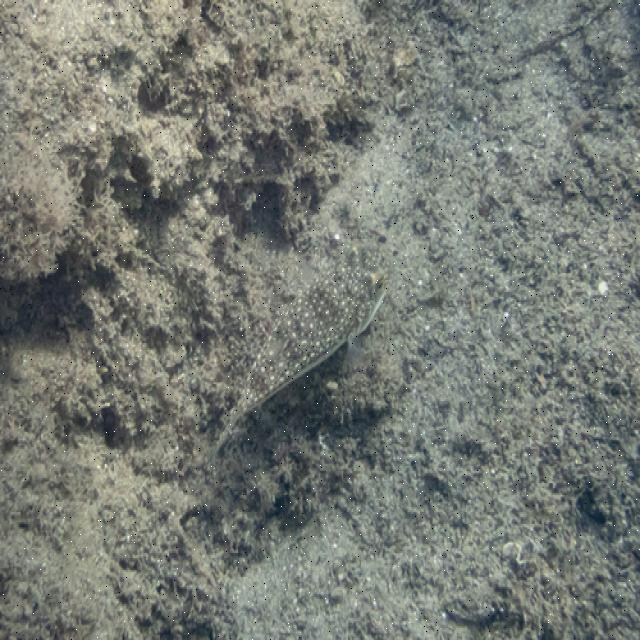Balik: (230, 245, 386, 424)
